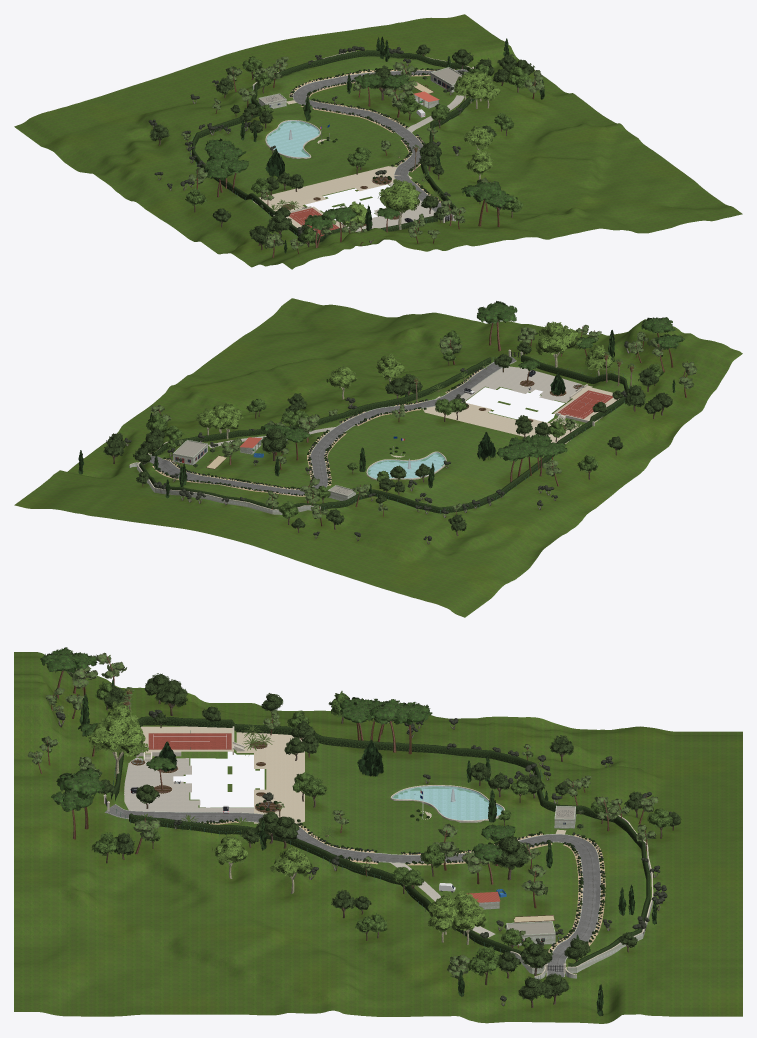
The model's file is parc.glb.
The picture shows the model from 3 angles, top to bottom: view 1: azimuth 30°, elevation 25°; view 2: azimuth 150°, elevation 25°; view 3: azimuth 270°, elevation 25°; orthographic projection. The views are drawn at different scales.
Visible parts, largest first — view 1: parc_terrain_naturel, parc_haie_limite_02, parc_cour_sablee_sud, parc_allee_arc, parc_bassin_eau, parc_bassin_fond, parc_platane_015, parc_cour_nord_parking, parc_parasol_016, parc_haie_limite_01, parc_platane_024, parc_maison_gardien (+3 smaller); view 2: parc_terrain_naturel, parc_haie_limite_02, parc_allee_arc, parc_haie_limite_01, parc_cour_nord_parking, parc_cour_sablee_sud, parc_platane_015, parc_bassin_eau, parc_mur_cloture_route, parc_bassin_fond, parc_haie_limite_00, parc_parasol_016 (+5 smaller); view 3: parc_terrain_naturel, parc_haie_limite_02, parc_allee_arc, parc_cour_sablee_sud, parc_cour_nord_parking, parc_haie_limite_01, parc_bassin_eau, parc_platane_015, parc_bassin_fond, parc_tennis_court, parc_allee_est, parc_parasol_016 (+16 smaller).
Part boxes in pixels (x1,y1,x2,y2): parc_terrain_naturel: (14,14,742,269); parc_haie_limite_02: (192,50,470,242); parc_cour_sablee_sud: (253,166,412,211); parc_allee_arc: (293,69,468,175); parc_bassin_eau: (266,120,319,157); parc_bassin_fond: (267,122,318,157); parc_platane_015: (378,179,421,229); parc_cour_nord_parking: (346,183,435,231); parc_parasol_016: (461,181,502,226); parc_haie_limite_01: (421,97,475,213); parc_platane_024: (464,126,493,149); parc_maison_gardien: (430,67,461,92); parc_terrain_naturel: (14,298,742,617); parc_haie_limite_02: (139,379,628,513); parc_allee_arc: (144,400,437,494); parc_haie_limite_01: (151,357,491,456); parc_cour_nord_parking: (460,366,581,402); parc_cour_sablee_sud: (423,396,581,443); parc_platane_015: (535,321,581,367); parc_bassin_eau: (367,452,445,478); parc_mur_cloture_route: (137,441,320,514); parc_bassin_fond: (368,454,443,478); parc_haie_limite_00: (521,355,625,384); parc_parasol_016: (478,301,517,351); parc_terrain_naturel: (14,652,742,1023); parc_haie_limite_02: (138,716,650,966); parc_allee_arc: (296,827,600,977); parc_cour_sablee_sud: (236,732,304,823); parc_cour_nord_parking: (124,758,253,813); parc_haie_limite_01: (129,813,533,967); parc_bassin_eau: (392,786,503,820); parc_platane_015: (88,714,149,778); parc_bassin_fond: (394,788,501,822); parc_tennis_court: (151,733,228,749); parc_allee_est: (105,804,263,822); parc_parasol_016: (56,767,106,829).
Size of the model in its own units: 220 by 46.31 by 236.
108 materials, 61 textured.
